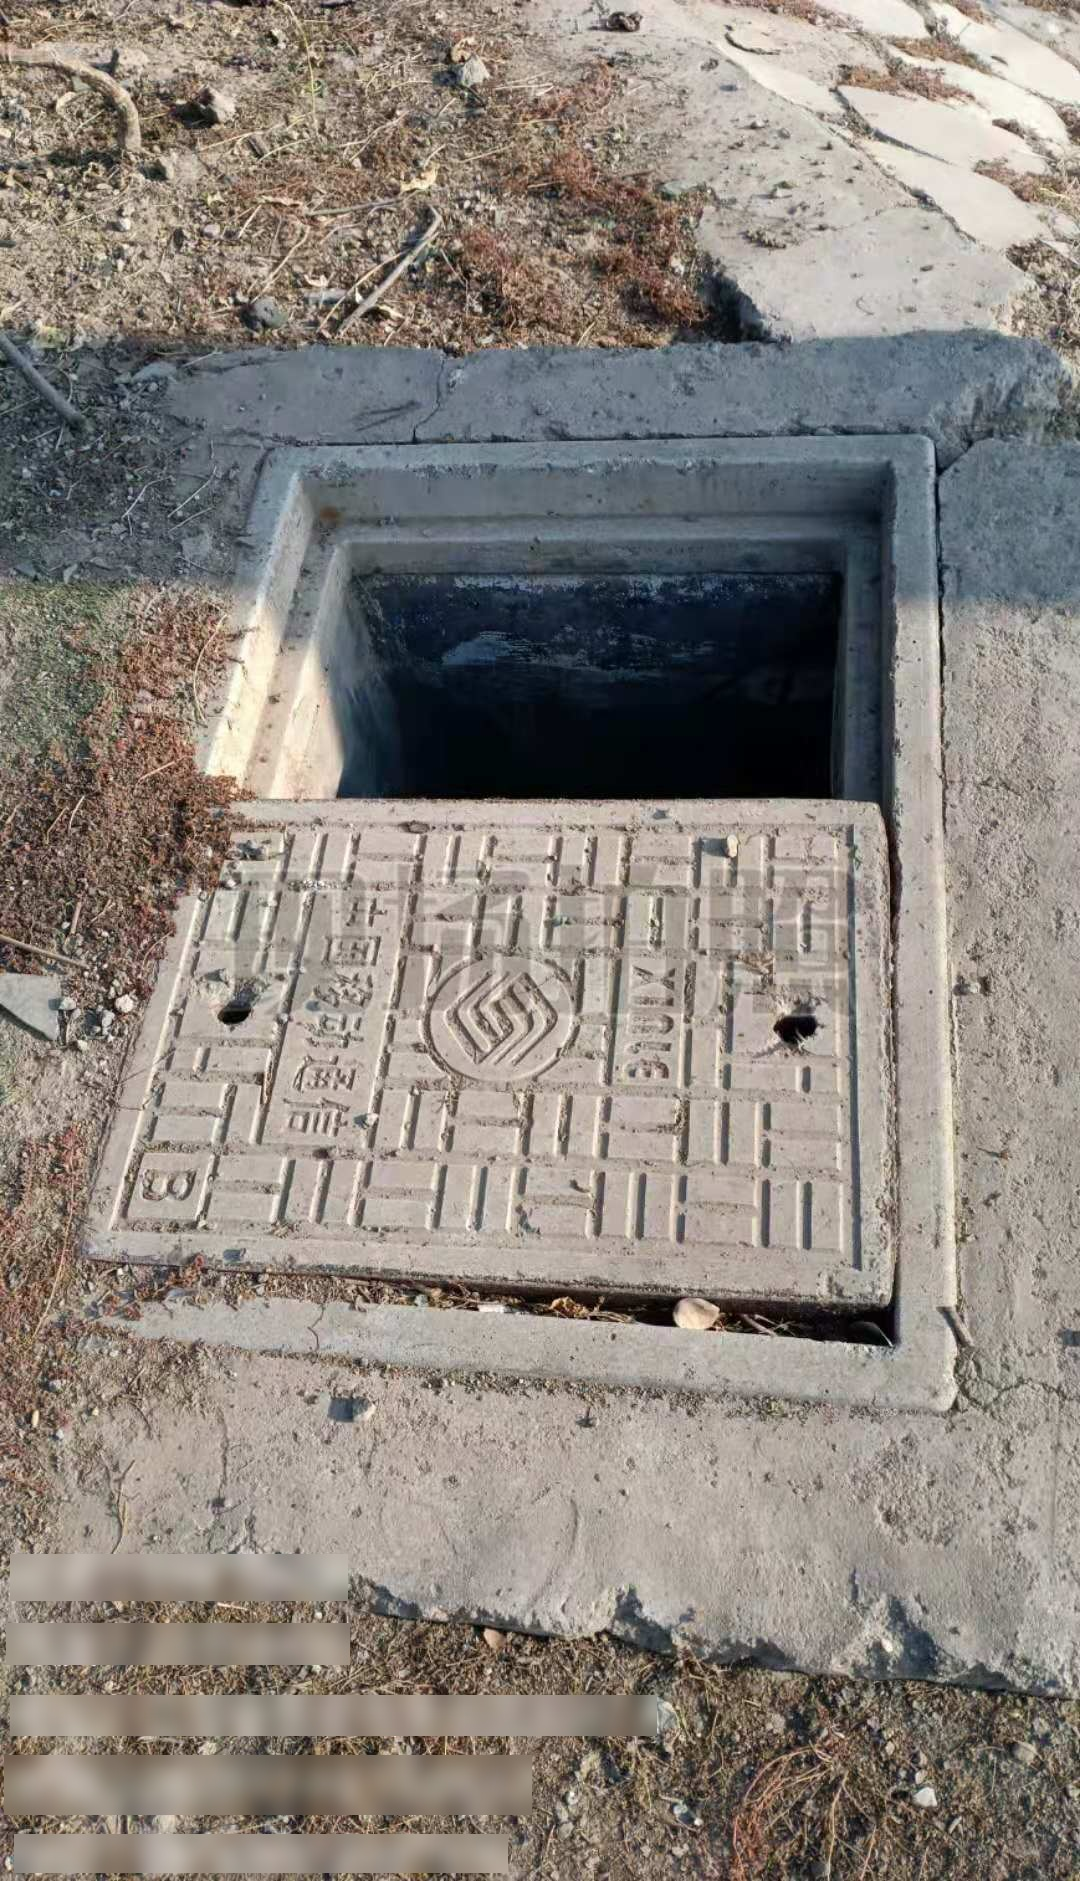lose: (75, 431, 959, 1419)
